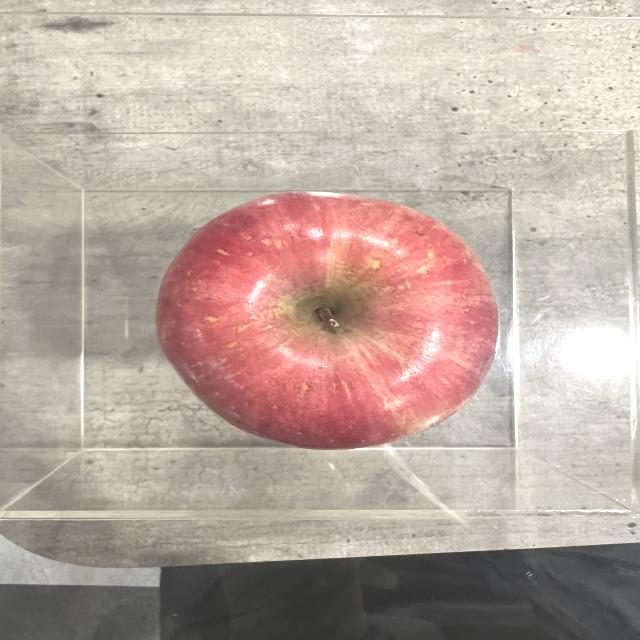red apple: (157, 190, 493, 450)
